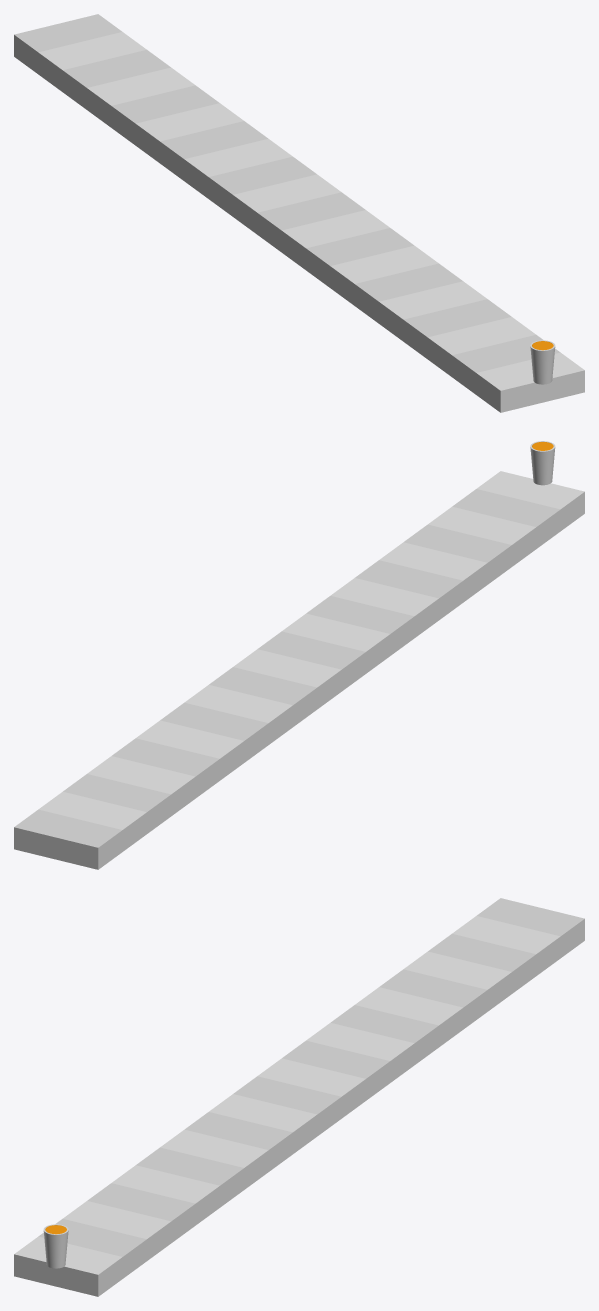
The model's file is coffee_03.fbx.
The picture shows the model from 3 angles, top to bottom: view 1: azimuth 30°, elevation 25°; view 2: azimuth 150°, elevation 25°; view 3: azimuth 330°, elevation 25°; orthographic projection.
Visible parts, largest first — view 1: road_02, road_01, cup.001; view 2: road_02, road_01, cup.001; view 3: road_02, road_01, cup.001.
Part boxes in pixels (x1,y1,x2,y2): road_02: [14, 14, 535, 376]; road_01: [452, 334, 584, 412]; cup.001: [530, 340, 555, 384]; road_02: [14, 506, 536, 869]; road_01: [452, 471, 584, 548]; cup.001: [530, 441, 555, 485]; road_02: [63, 898, 584, 1260]; road_01: [14, 1218, 146, 1296]; cup.001: [43, 1224, 68, 1268].
Size of the model in its own units: 10.21 by 6.6 by 103.
